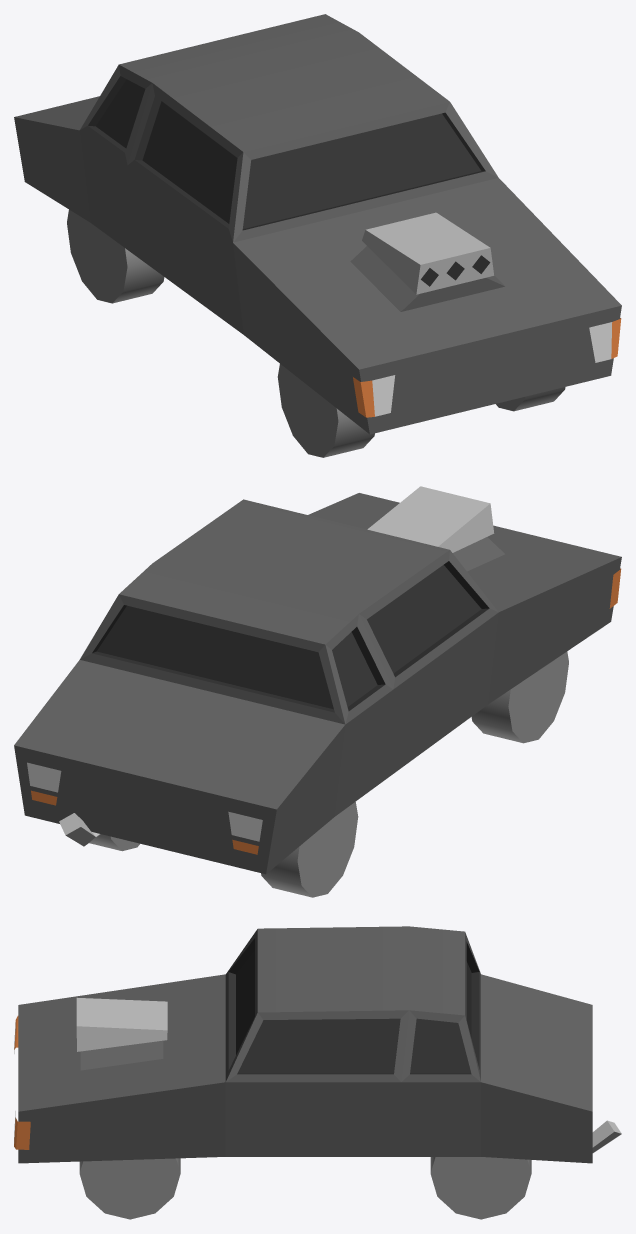
Rendered from musclecar_09.fbx.
The picture shows the model from 3 angles, top to bottom: view 1: azimuth 30°, elevation 25°; view 2: azimuth 150°, elevation 25°; view 3: azimuth 270°, elevation 25°; orthographic projection. The views are drawn at different scales.
Visible parts, largest first — view 1: musclecar_09; view 2: musclecar_09; view 3: musclecar_09.
Part boxes in pixels (x1=…): musclecar_09: x1=14, y1=14, x2=621, y2=457; musclecar_09: x1=14, y1=486, x2=621, y2=897; musclecar_09: x1=14, y1=926, x2=621, y2=1219.
Bounding box in the file's own units: 1.6 × 1.41 × 3.81.
